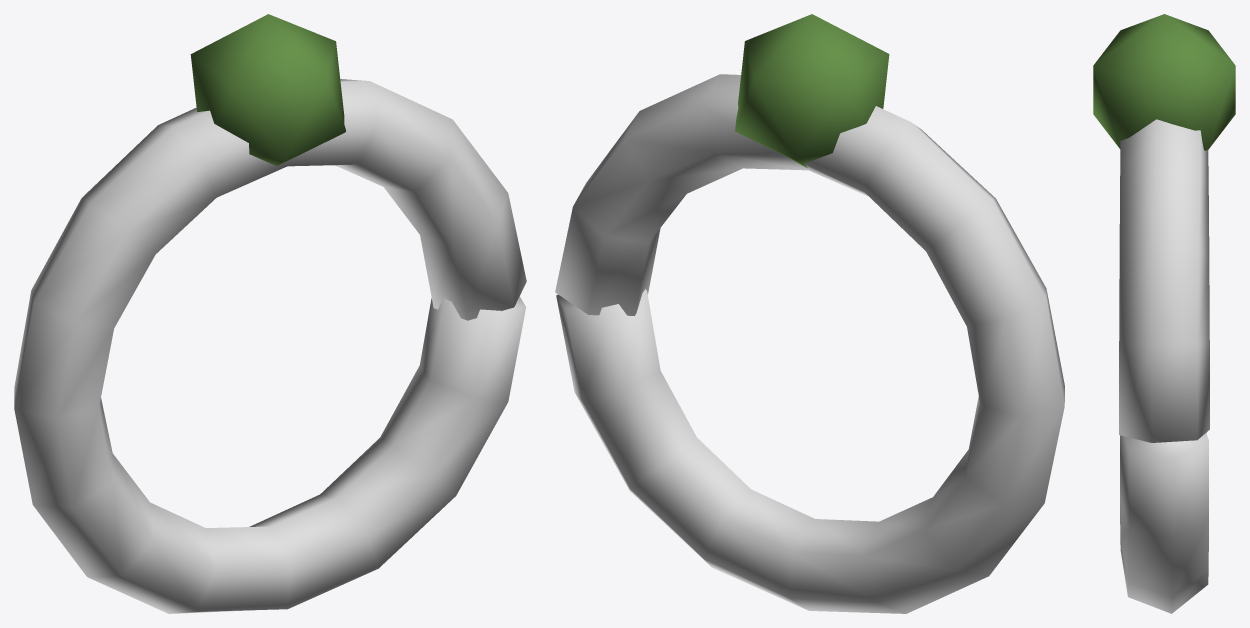
File: pygmy_necklace.glb
The picture shows the model from 3 angles, left to right: view 1: azimuth 30°, elevation 25°; view 2: azimuth 150°, elevation 25°; view 3: azimuth 270°, elevation 25°; orthographic projection. The views are drawn at different scales.
Parts seen in each view (by area): view 1: pygmy_necklace_v0; view 2: pygmy_necklace_v0; view 3: pygmy_necklace_v0.
Part boxes in pixels (box(x1,y1,x2,y2)): pygmy_necklace_v0: box(14, 14, 526, 613); pygmy_necklace_v0: box(555, 14, 1064, 613); pygmy_necklace_v0: box(1093, 14, 1235, 613).
Size of the model in its own units: 0.1674 by 0.1889 by 0.0425.
